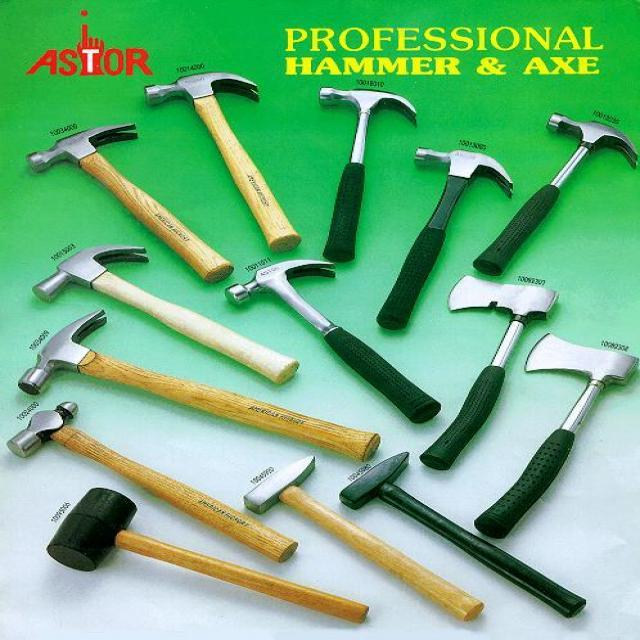hammer: (4, 396, 299, 574), (41, 485, 374, 629), (236, 450, 502, 630), (334, 447, 590, 623), (27, 241, 307, 377), (25, 118, 242, 283), (221, 255, 439, 407), (140, 68, 320, 252), (475, 110, 640, 276), (374, 143, 516, 329), (310, 76, 420, 262)
